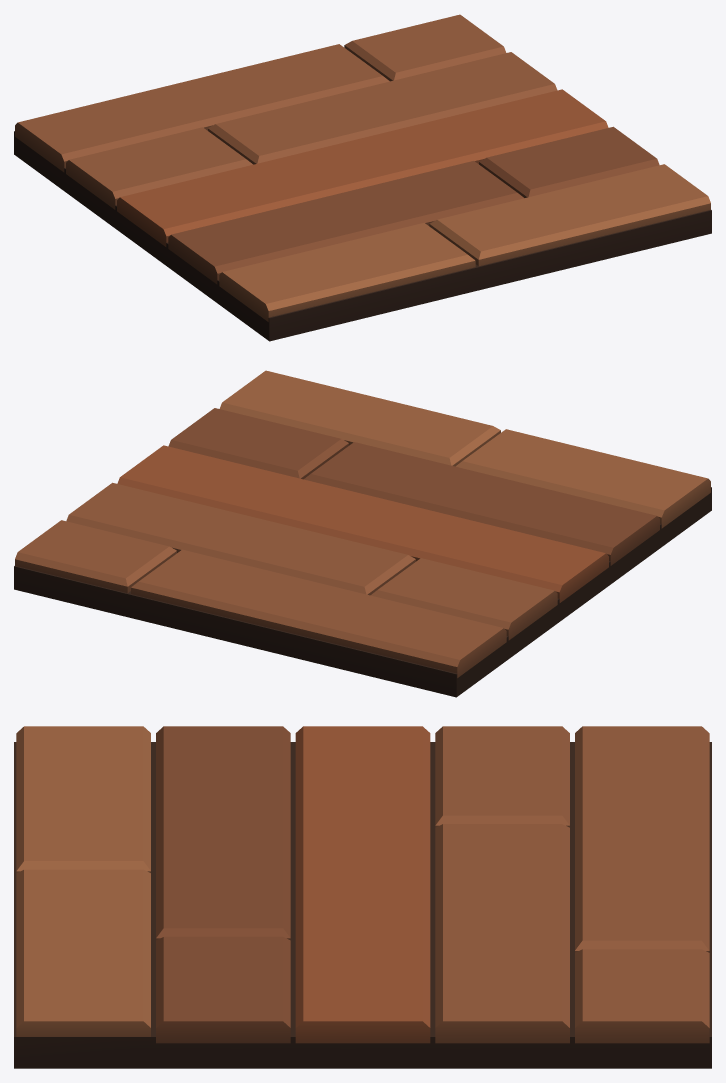
Rendered from floor_planks_small_A.glb.
The picture shows the model from 3 angles, top to bottom: view 1: azimuth 30°, elevation 25°; view 2: azimuth 150°, elevation 25°; view 3: azimuth 270°, elevation 25°; orthographic projection. The views are drawn at different scales.
Parts seen in each view (by area): view 1: Item; view 2: Item; view 3: Item.
Part boxes in pixels (x1=…): Item: x1=14, y1=14, x2=711, y2=341; Item: x1=14, y1=370, x2=711, y2=697; Item: x1=14, y1=726, x2=711, y2=1068.
Size of the model in its own units: 2 by 0.15 by 2.
Materials: 1 (1 with a texture image).
